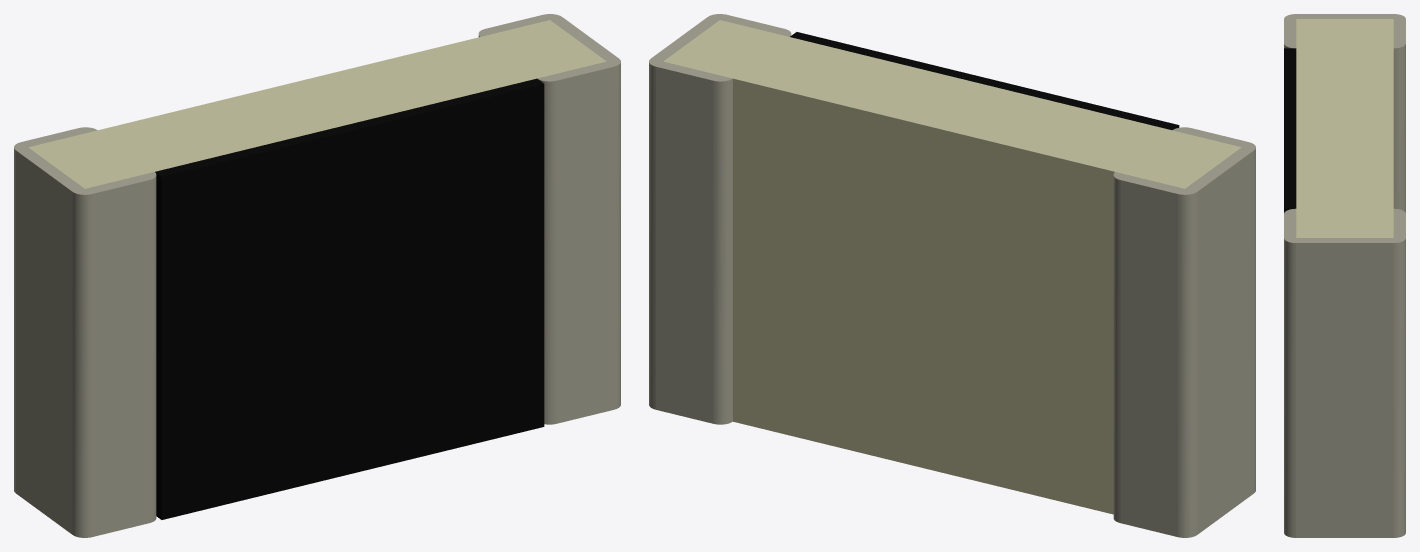
File: r_0805_2012metric.glb
3 views of the same model, side by side, from view 1: azimuth 30°, elevation 25°; view 2: azimuth 150°, elevation 25°; view 3: azimuth 270°, elevation 25° (orthographic). The views are drawn at different scales.
Visible parts, largest first — view 1: R_0805_2012Metric; view 2: R_0805_2012Metric; view 3: R_0805_2012Metric.
Part boxes in pixels (box(x1,y1,x2,y2)): R_0805_2012Metric: box(14, 14, 620, 537); R_0805_2012Metric: box(649, 14, 1255, 537); R_0805_2012Metric: box(1284, 14, 1405, 537).
Bounding box in the file's own units: 2 × 1.2 × 0.45.
